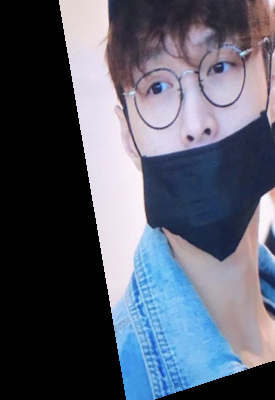mask_weared_incorrect: (100, 4, 275, 266)
